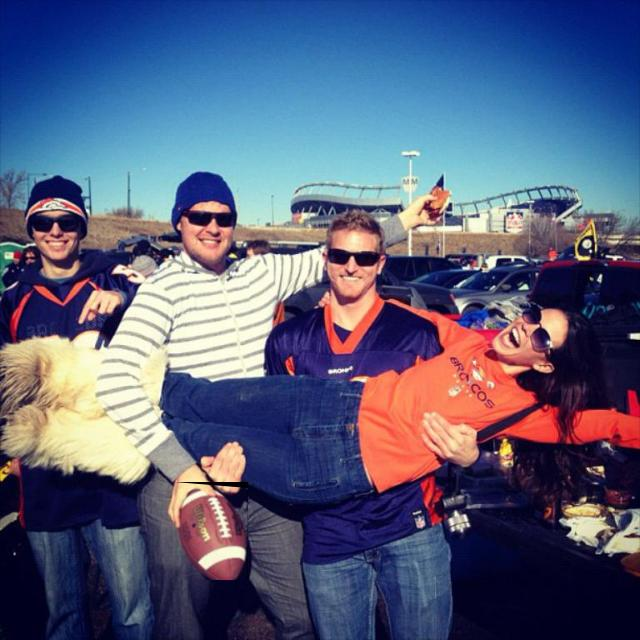Football: (174, 482, 248, 580)
